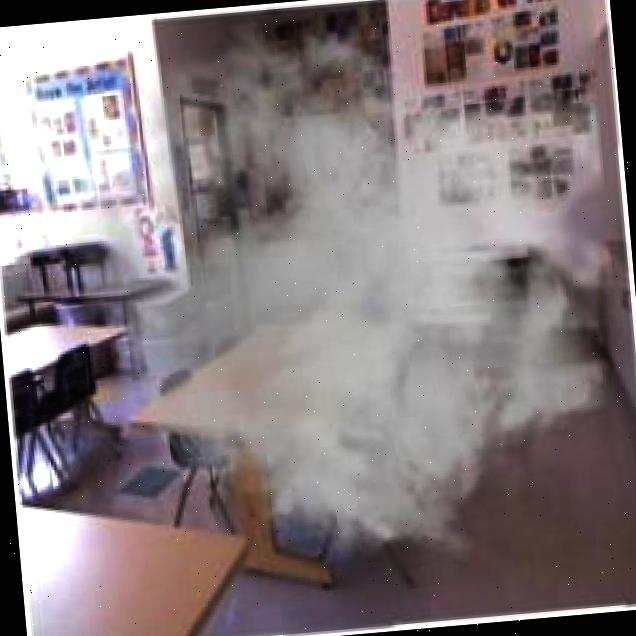smoke: (46, 0, 635, 593)
